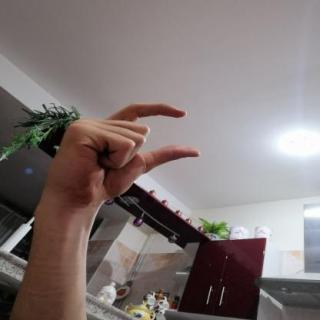DELL: (30, 94, 209, 218)
